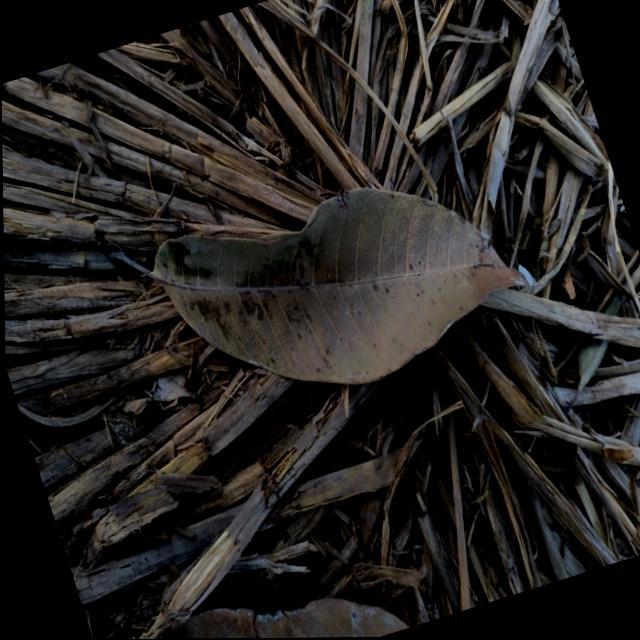Bacterial Cancer: (472, 254, 495, 276), (476, 232, 491, 253), (337, 192, 351, 213)
